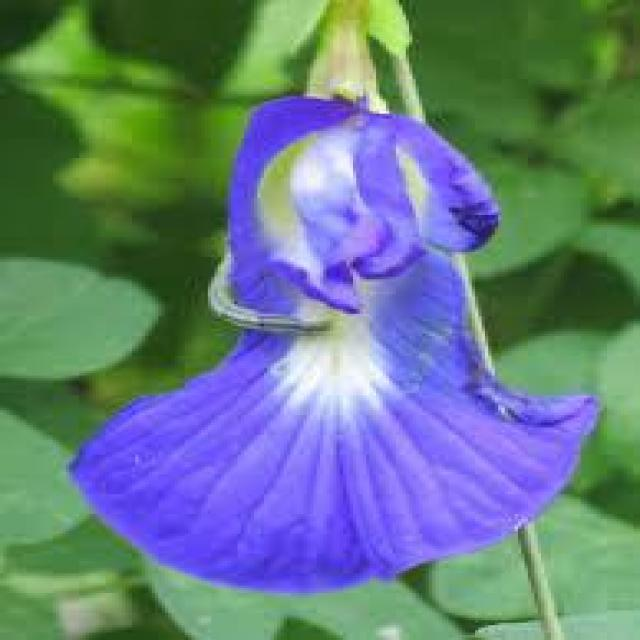organic waste: (59, 103, 604, 567)
